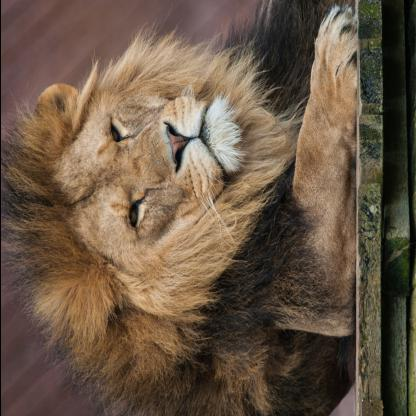lion: (4, 35, 268, 341)
